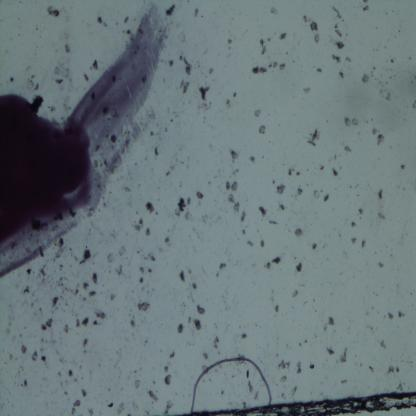Background material: (172, 195, 192, 221), (56, 273, 76, 296), (32, 261, 49, 283), (78, 246, 95, 266), (52, 238, 66, 261), (179, 54, 193, 77), (27, 71, 42, 92), (214, 258, 228, 279), (226, 194, 242, 211), (306, 128, 320, 146), (338, 345, 350, 365), (39, 317, 55, 332), (331, 4, 344, 22), (223, 180, 239, 194), (343, 115, 360, 128), (194, 100, 216, 110), (245, 370, 254, 394), (386, 364, 404, 376), (47, 4, 62, 18), (196, 86, 210, 101), (251, 64, 268, 76), (179, 79, 191, 96), (94, 309, 108, 323), (137, 300, 151, 314), (163, 5, 178, 18), (229, 147, 241, 163), (142, 250, 156, 263), (70, 399, 82, 414), (145, 200, 156, 216), (276, 182, 287, 198), (105, 252, 117, 266), (276, 358, 290, 370), (134, 218, 145, 233), (163, 399, 174, 414), (258, 37, 267, 55), (62, 320, 71, 338), (148, 389, 159, 403), (196, 302, 207, 316), (334, 38, 346, 50), (212, 334, 220, 352), (258, 205, 269, 218), (190, 278, 200, 292), (289, 384, 299, 398), (295, 359, 303, 376), (193, 317, 202, 332), (295, 260, 304, 275), (128, 400, 139, 412), (64, 43, 75, 55), (96, 16, 107, 28), (331, 53, 342, 65), (113, 264, 124, 276), (51, 76, 64, 86), (300, 13, 310, 26), (40, 336, 56, 344), (164, 373, 173, 387), (335, 25, 344, 39), (118, 244, 127, 258), (88, 288, 99, 299), (116, 402, 127, 413), (276, 201, 286, 213), (294, 227, 304, 239), (309, 20, 319, 32), (272, 255, 284, 265), (378, 338, 388, 350), (326, 345, 336, 357), (361, 72, 371, 84), (21, 284, 31, 296), (81, 316, 90, 329), (179, 268, 186, 284), (342, 144, 353, 154), (278, 31, 288, 42), (397, 309, 407, 320), (296, 186, 305, 198), (376, 258, 385, 270), (302, 85, 311, 97), (51, 294, 58, 309), (256, 126, 269, 134), (240, 210, 248, 223), (67, 366, 75, 379), (313, 32, 321, 45), (178, 31, 186, 44), (378, 134, 386, 147), (136, 266, 145, 277), (143, 227, 152, 238), (253, 107, 262, 118), (386, 310, 395, 321), (327, 317, 336, 328), (178, 320, 184, 336), (82, 336, 90, 348), (92, 272, 100, 284), (82, 280, 90, 292), (350, 219, 359, 229), (129, 318, 138, 328), (372, 126, 381, 136), (196, 190, 205, 200), (80, 387, 88, 398), (168, 58, 176, 69), (331, 167, 339, 178), (264, 260, 272, 271), (20, 343, 28, 354), (292, 289, 300, 300), (378, 211, 386, 222), (385, 89, 392, 101), (152, 147, 159, 159), (226, 36, 232, 50), (377, 188, 384, 200), (32, 349, 38, 363), (361, 238, 367, 252), (288, 165, 295, 177), (270, 7, 279, 16), (91, 318, 100, 327), (279, 374, 287, 384), (338, 376, 348, 384), (394, 384, 404, 392), (162, 364, 170, 374), (268, 62, 278, 70), (106, 402, 116, 410), (314, 68, 324, 76), (51, 66, 59, 76), (314, 186, 320, 199), (249, 152, 256, 163), (225, 97, 232, 108), (202, 350, 208, 362), (141, 408, 150, 416), (86, 407, 94, 416), (108, 293, 117, 301), (170, 162, 177, 172), (323, 194, 330, 204), (357, 206, 364, 216), (75, 318, 81, 329), (84, 71, 90, 82), (260, 238, 266, 249), (123, 14, 129, 25), (92, 59, 98, 70), (362, 4, 370, 12), (279, 62, 287, 70), (138, 276, 146, 284), (20, 380, 28, 388), (280, 392, 287, 401), (169, 351, 176, 360), (351, 237, 358, 246), (338, 72, 345, 81), (368, 324, 374, 334), (254, 390, 260, 400), (378, 88, 384, 98), (18, 364, 24, 374), (28, 301, 34, 311), (312, 241, 318, 251), (187, 314, 192, 326), (38, 306, 44, 316), (411, 98, 416, 110), (274, 303, 280, 313), (344, 56, 352, 63), (377, 78, 384, 86), (240, 401, 248, 408), (7, 352, 14, 360), (124, 184, 131, 192), (124, 27, 131, 35), (179, 308, 186, 316), (219, 387, 225, 396), (164, 236, 170, 245), (193, 9, 199, 18), (72, 377, 81, 383), (322, 322, 327, 332), (63, 378, 68, 388), (147, 268, 154, 275), (60, 357, 67, 364), (309, 363, 316, 370), (370, 364, 376, 372), (82, 296, 90, 302), (75, 284, 79, 296), (232, 90, 238, 98), (41, 356, 47, 364), (268, 219, 276, 225), (164, 124, 169, 133), (319, 164, 325, 171), (400, 164, 406, 171), (7, 76, 14, 82), (26, 268, 32, 275), (63, 388, 68, 396), (57, 370, 62, 378), (136, 380, 141, 388), (166, 171, 172, 177), (102, 200, 107, 207), (179, 178, 182, 189), (210, 67, 214, 75), (312, 331, 316, 339), (60, 380, 64, 388), (303, 299, 308, 305), (241, 334, 247, 339), (240, 230, 246, 235), (274, 352, 279, 357), (298, 342, 302, 348), (408, 54, 411, 62), (334, 153, 338, 159), (362, 0, 370, 3), (410, 358, 413, 365), (389, 252, 393, 257), (304, 339, 309, 343), (296, 171, 300, 176), (136, 249, 140, 254), (74, 255, 77, 261), (272, 179, 275, 185), (372, 65, 375, 71), (371, 306, 375, 310), (390, 59, 394, 63), (83, 349, 87, 353), (236, 168, 239, 173), (60, 265, 62, 272), (410, 292, 413, 296), (314, 308, 317, 312), (312, 298, 315, 302), (414, 76, 416, 81), (176, 391, 178, 396), (19, 334, 22, 337), (232, 375, 235, 378), (201, 15, 204, 18), (386, 244, 388, 248), (349, 186, 352, 188), (411, 81, 413, 84), (171, 120, 173, 123), (388, 76, 390, 78)
Edge of slide: (229, 388, 416, 416)
Microfibre: (190, 356, 274, 412)
Pen: (0, 4, 163, 279)
